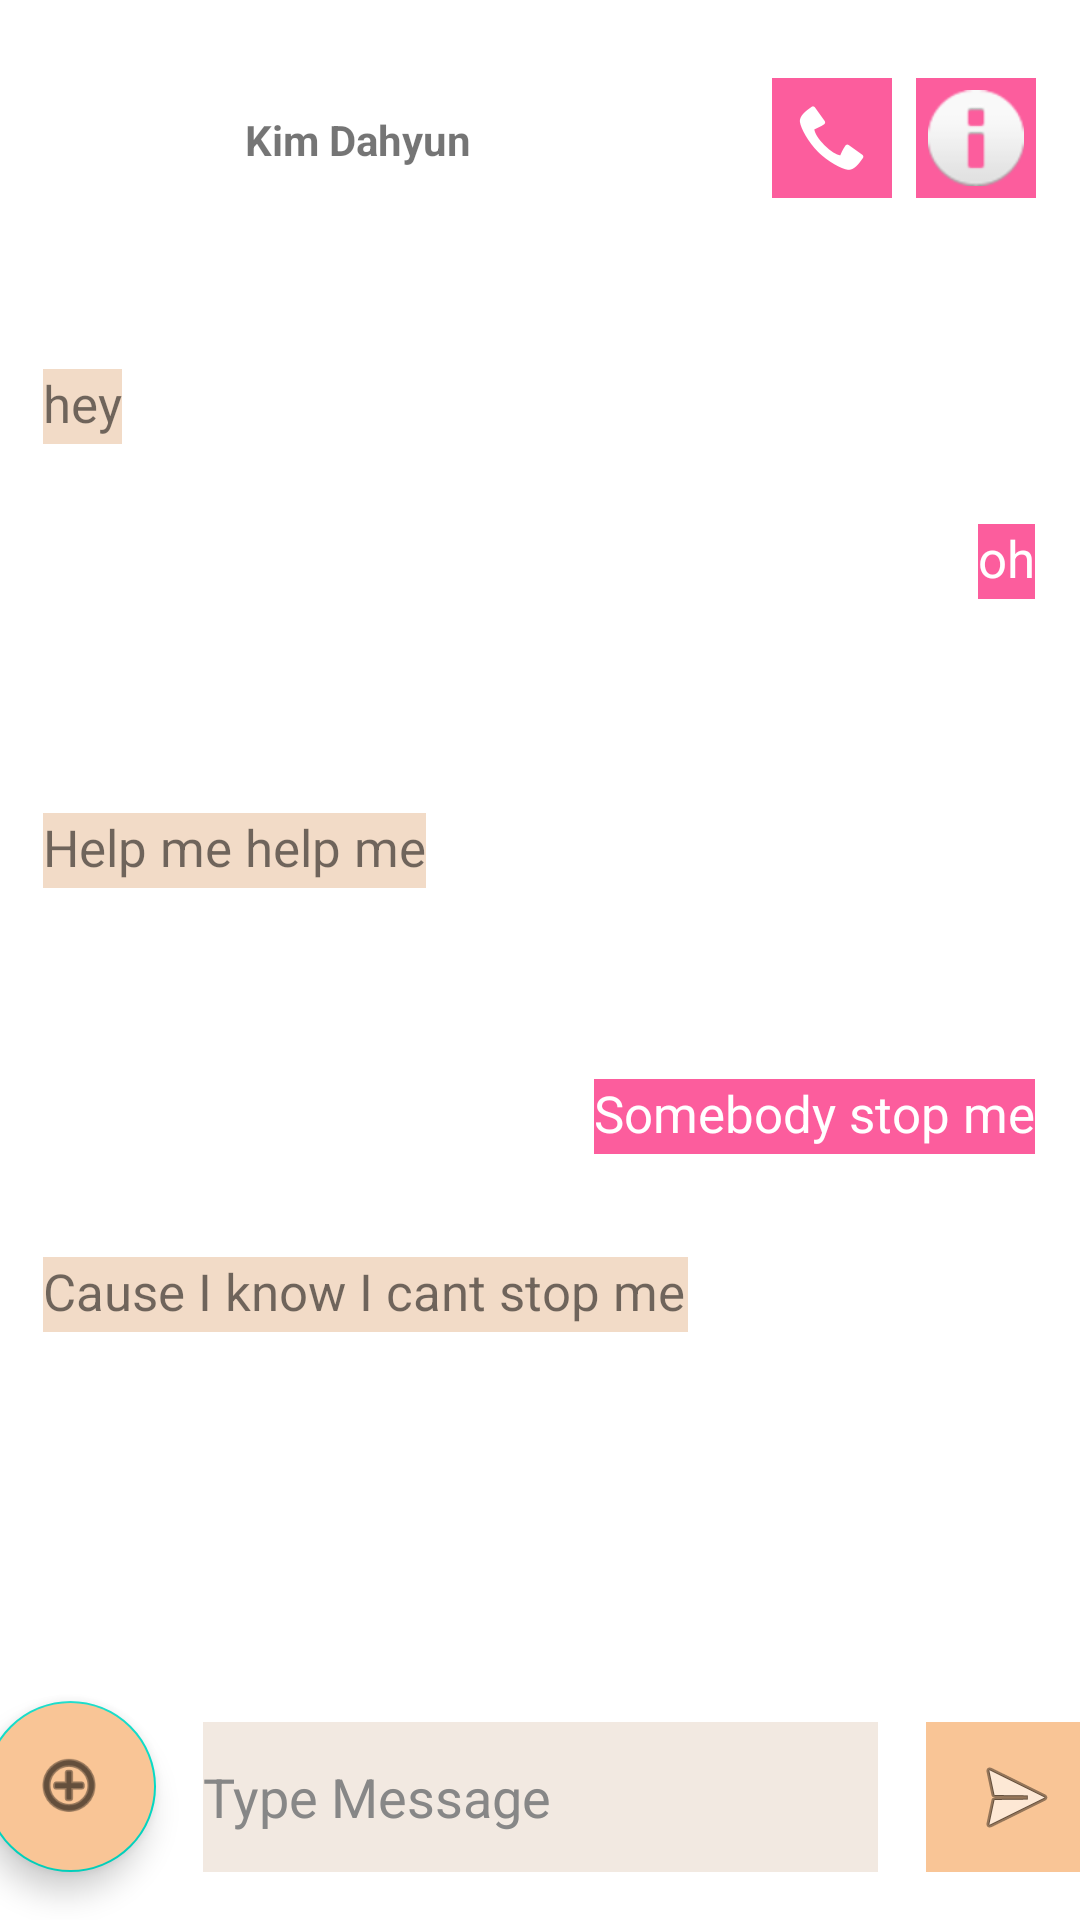

Named icons in this screenshot (1080×1920) and their centers, [x,y]:
add: [78,1786]
info: [976,138]
phone call: [832,138]
